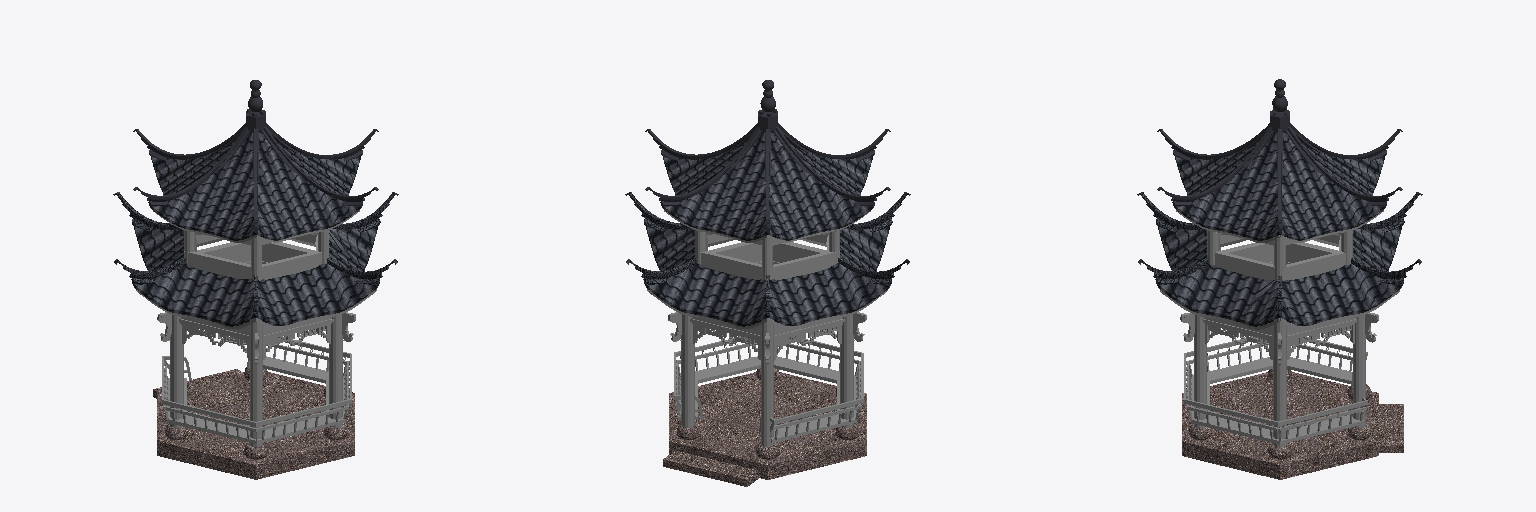
3 views of the same model, side by side, from view 1: azimuth 30°, elevation 25°; view 2: azimuth 150°, elevation 25°; view 3: azimuth 270°, elevation 25° (orthographic).
Visible parts, largest first — view 1: Circle278, Line280, Wa, NGon01, ChamferBox245, Wa1, Line281, Line279, Object004, Wood1; view 2: Circle278, Line280, NGon01, Wa, ChamferBox245, Wa1, Line281, Line279, Object004, Wood1; view 3: Circle278, Line280, Wa, NGon01, ChamferBox245, Wa1, Line281, Object004, Line279, Wood1.
Part boxes in pixels (left/top/right/bottom): Circle278: left=157, top=242, right=355, bottom=446; Line280: left=151, top=131, right=360, bottom=240; Wa: left=134, top=226, right=377, bottom=326; NGon01: left=153, top=369, right=354, bottom=479; ChamferBox245: left=133, top=80, right=378, bottom=232; Wa1: left=113, top=192, right=398, bottom=314; Line281: left=184, top=234, right=321, bottom=279; Line279: left=165, top=367, right=346, bottom=459; Object004: left=184, top=230, right=328, bottom=280; Wood1: left=136, top=233, right=376, bottom=328; Circle278: left=668, top=242, right=866, bottom=446; Line280: left=663, top=131, right=872, bottom=240; NGon01: left=663, top=372, right=866, bottom=486; Wa: left=646, top=226, right=889, bottom=326; ChamferBox245: left=645, top=80, right=890, bottom=232; Wa1: left=625, top=192, right=910, bottom=314; Line281: left=701, top=234, right=839, bottom=279; Line279: left=677, top=368, right=858, bottom=459; Object004: left=695, top=230, right=839, bottom=279; Wood1: left=647, top=233, right=887, bottom=328; Circle278: left=1180, top=242, right=1378, bottom=447; Line280: left=1175, top=131, right=1384, bottom=240; Wa: left=1158, top=226, right=1401, bottom=326; NGon01: left=1182, top=372, right=1403, bottom=479; ChamferBox245: left=1157, top=79, right=1402, bottom=232; Wa1: left=1137, top=192, right=1422, bottom=314; Line281: left=1215, top=233, right=1345, bottom=279; Object004: left=1207, top=231, right=1352, bottom=280; Line279: left=1189, top=369, right=1370, bottom=459; Wood1: left=1160, top=234, right=1399, bottom=329.
Bounding box in the file's own units: 606 × 719 × 529.
Materials: 4 (2 with a texture image).